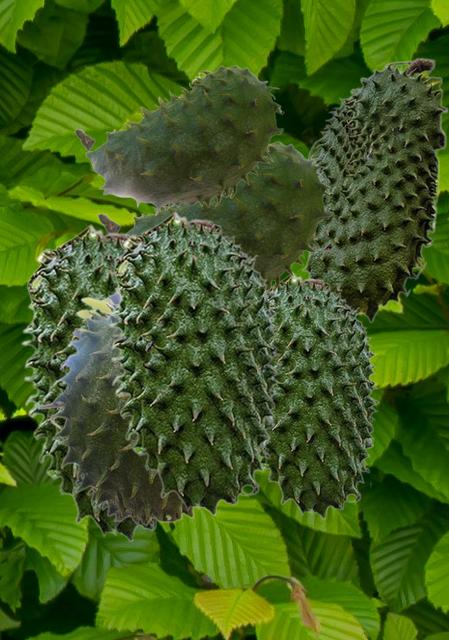guyabano: (108, 210, 282, 515), (21, 223, 158, 541), (300, 57, 447, 323), (37, 293, 201, 526), (97, 141, 332, 290), (74, 65, 283, 215), (261, 271, 379, 518)
